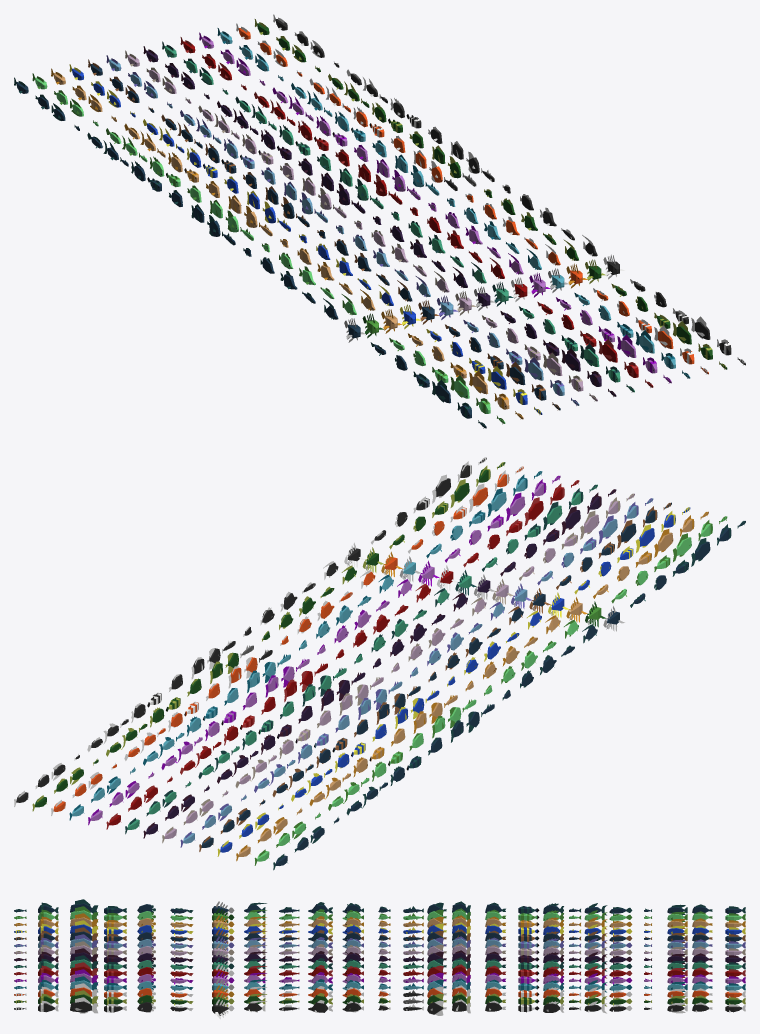
Rendered from Tropical Fish.fbx.
3 renders of one model, top to bottom at view 1: azimuth 30°, elevation 25°; view 2: azimuth 150°, elevation 25°; view 3: azimuth 270°, elevation 25°, orthographic. The views are drawn at different scales.
Visible parts, largest first — view 1: no part large enough to name; view 2: no part large enough to name; view 3: Tropical Fish 23, Tropical Fish 18.
Part boxes in pixels (bbox=[...]): Tropical Fish 23: bbox=[70, 997, 98, 1013]; Tropical Fish 18: bbox=[212, 999, 234, 1019].
Bounding box in the file's own units: 3010 × 279 × 8840.
